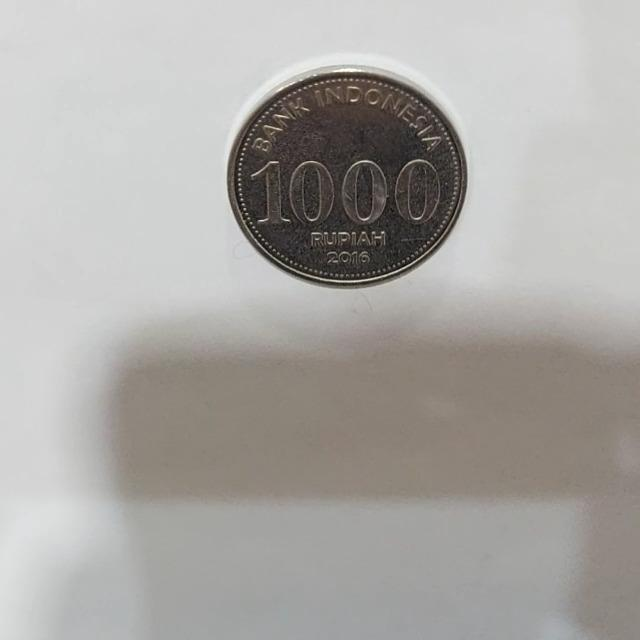Rp100: (225, 61, 468, 288)
